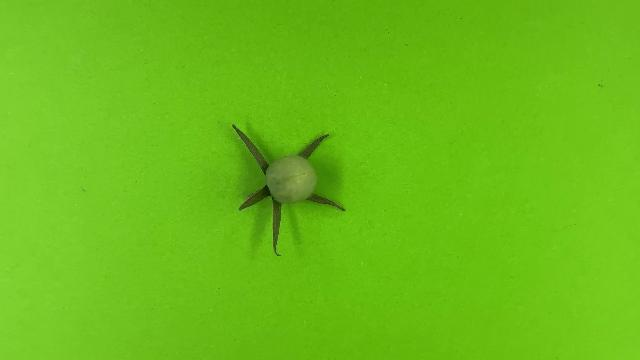Fruit Maturation: (264, 154, 318, 205)
